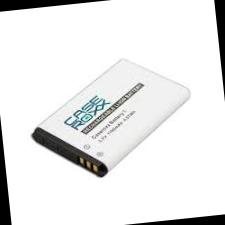battery: (16, 45, 206, 192)
